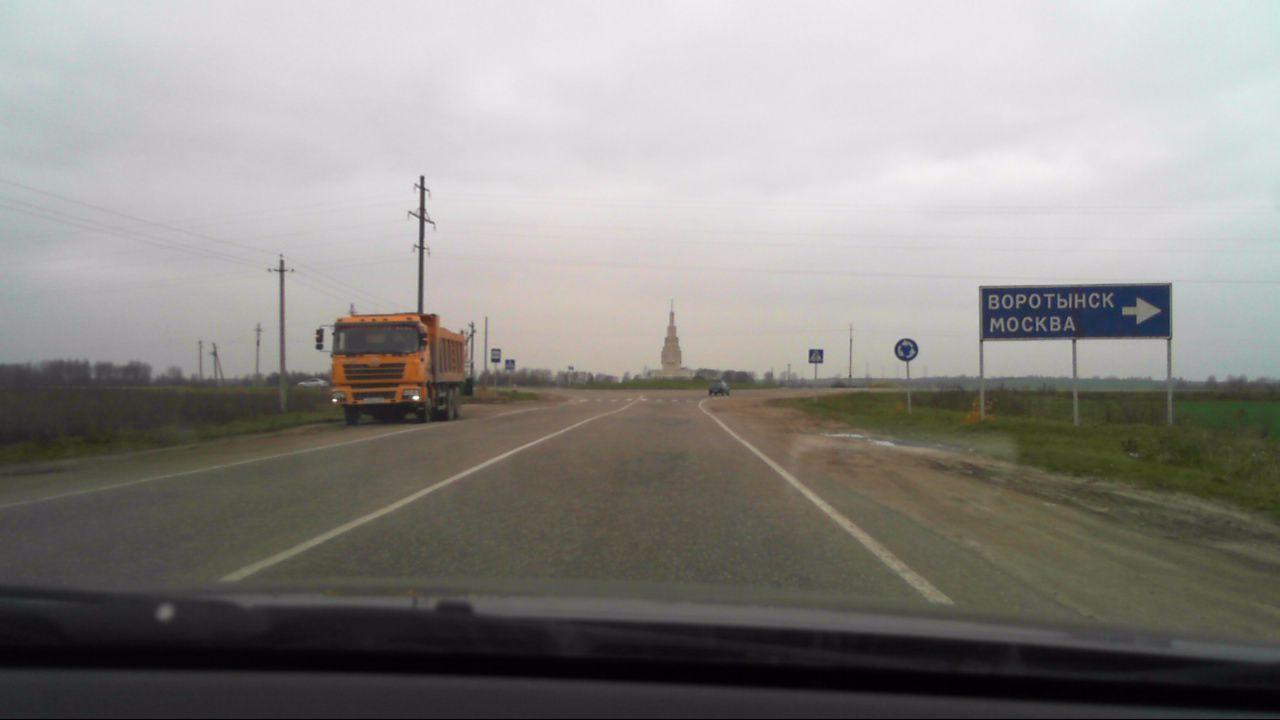Round-About: (893, 337, 919, 362)
